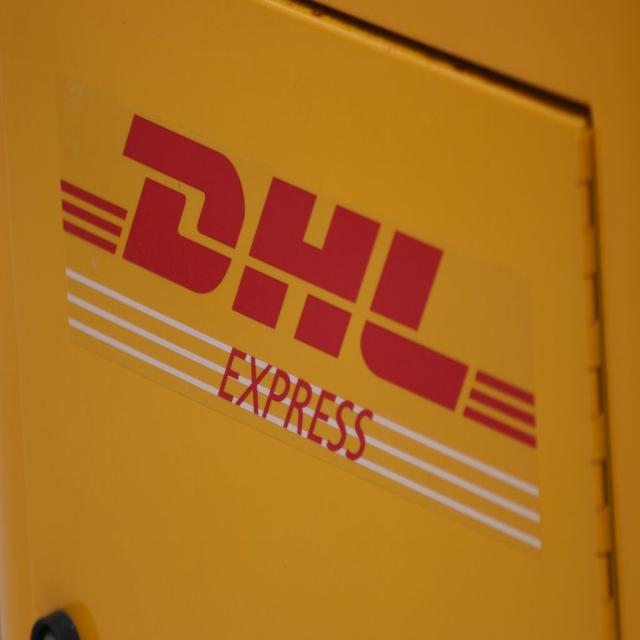dhl: (59, 106, 556, 466)
